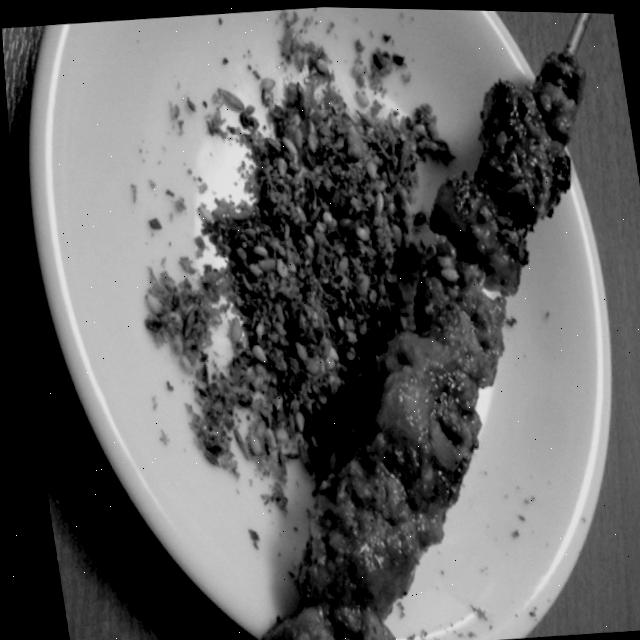烧串烤肉: (79, 6, 640, 640)
